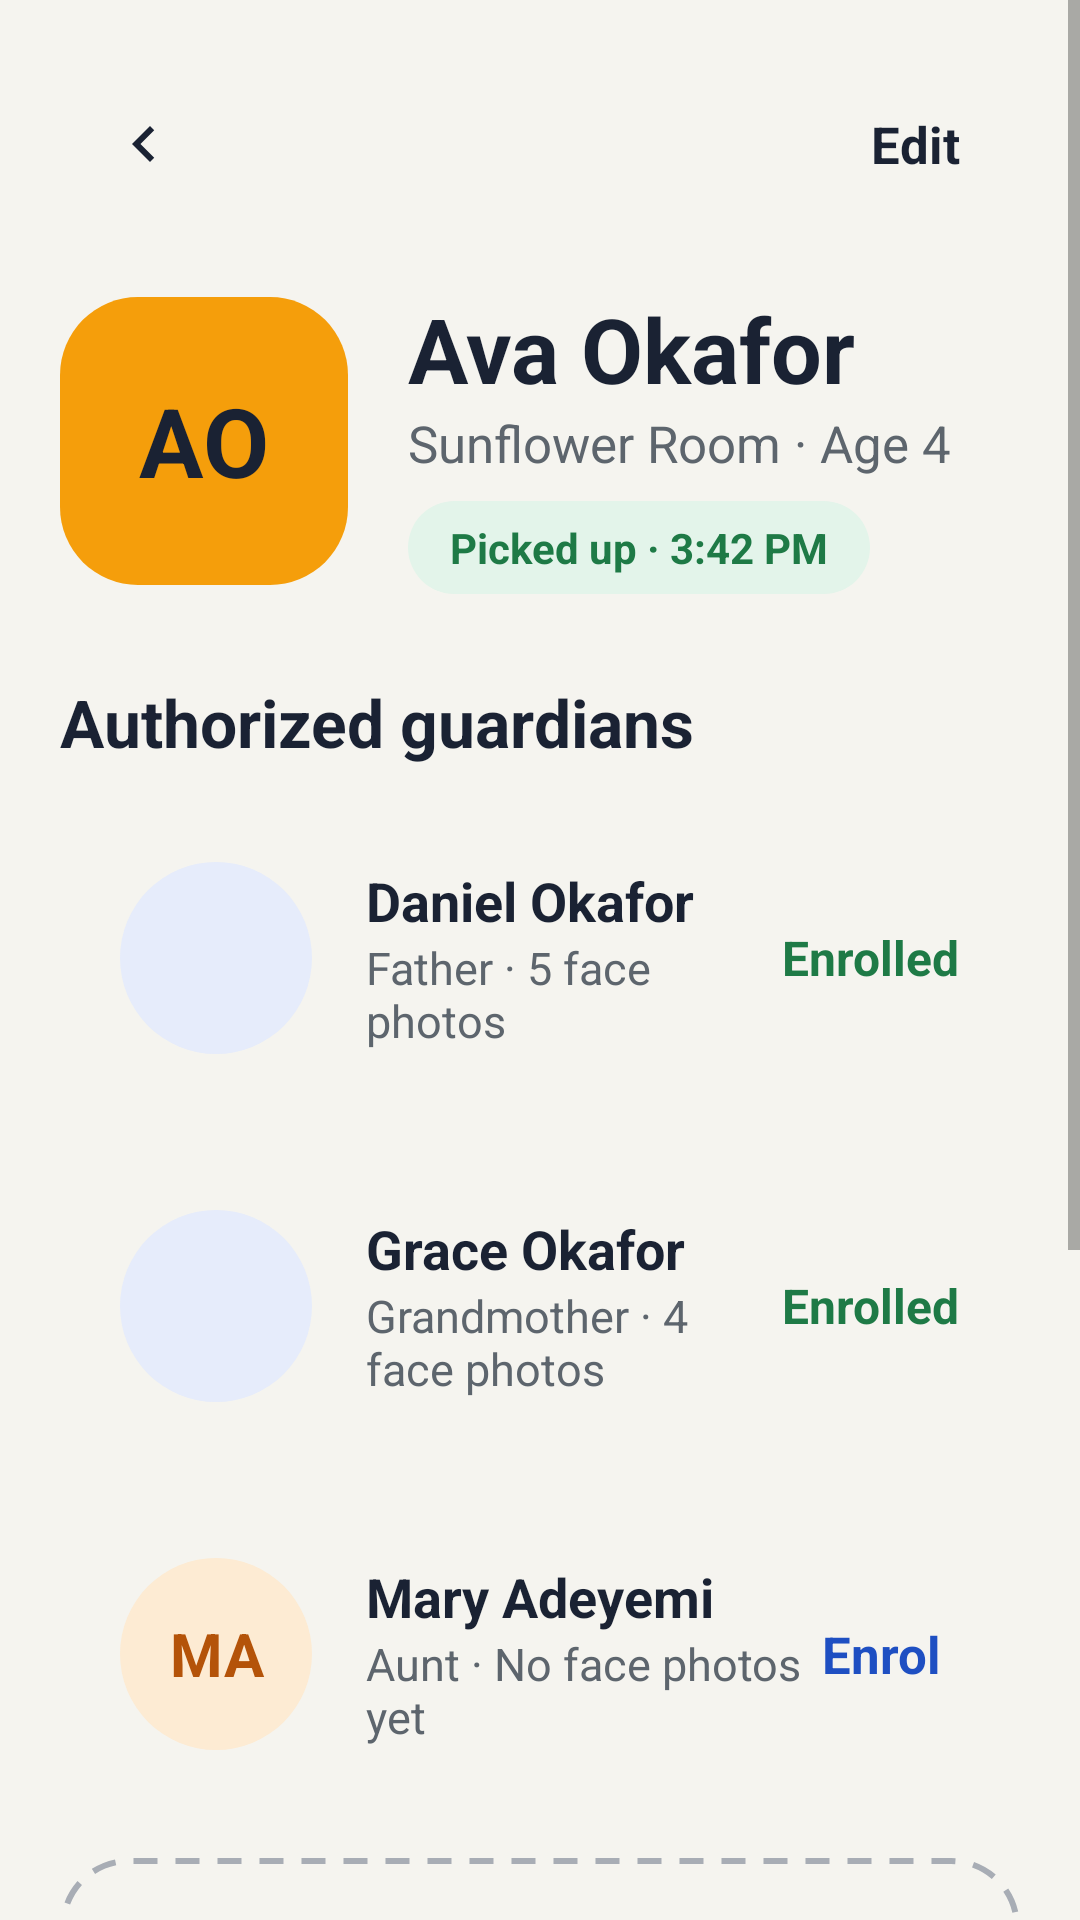

Locate icon controls on the screen. Image size 1080x1920, boxes as bbox=[x1, y1, x2, y2].
Back: bbox=[132, 126, 154, 162]
